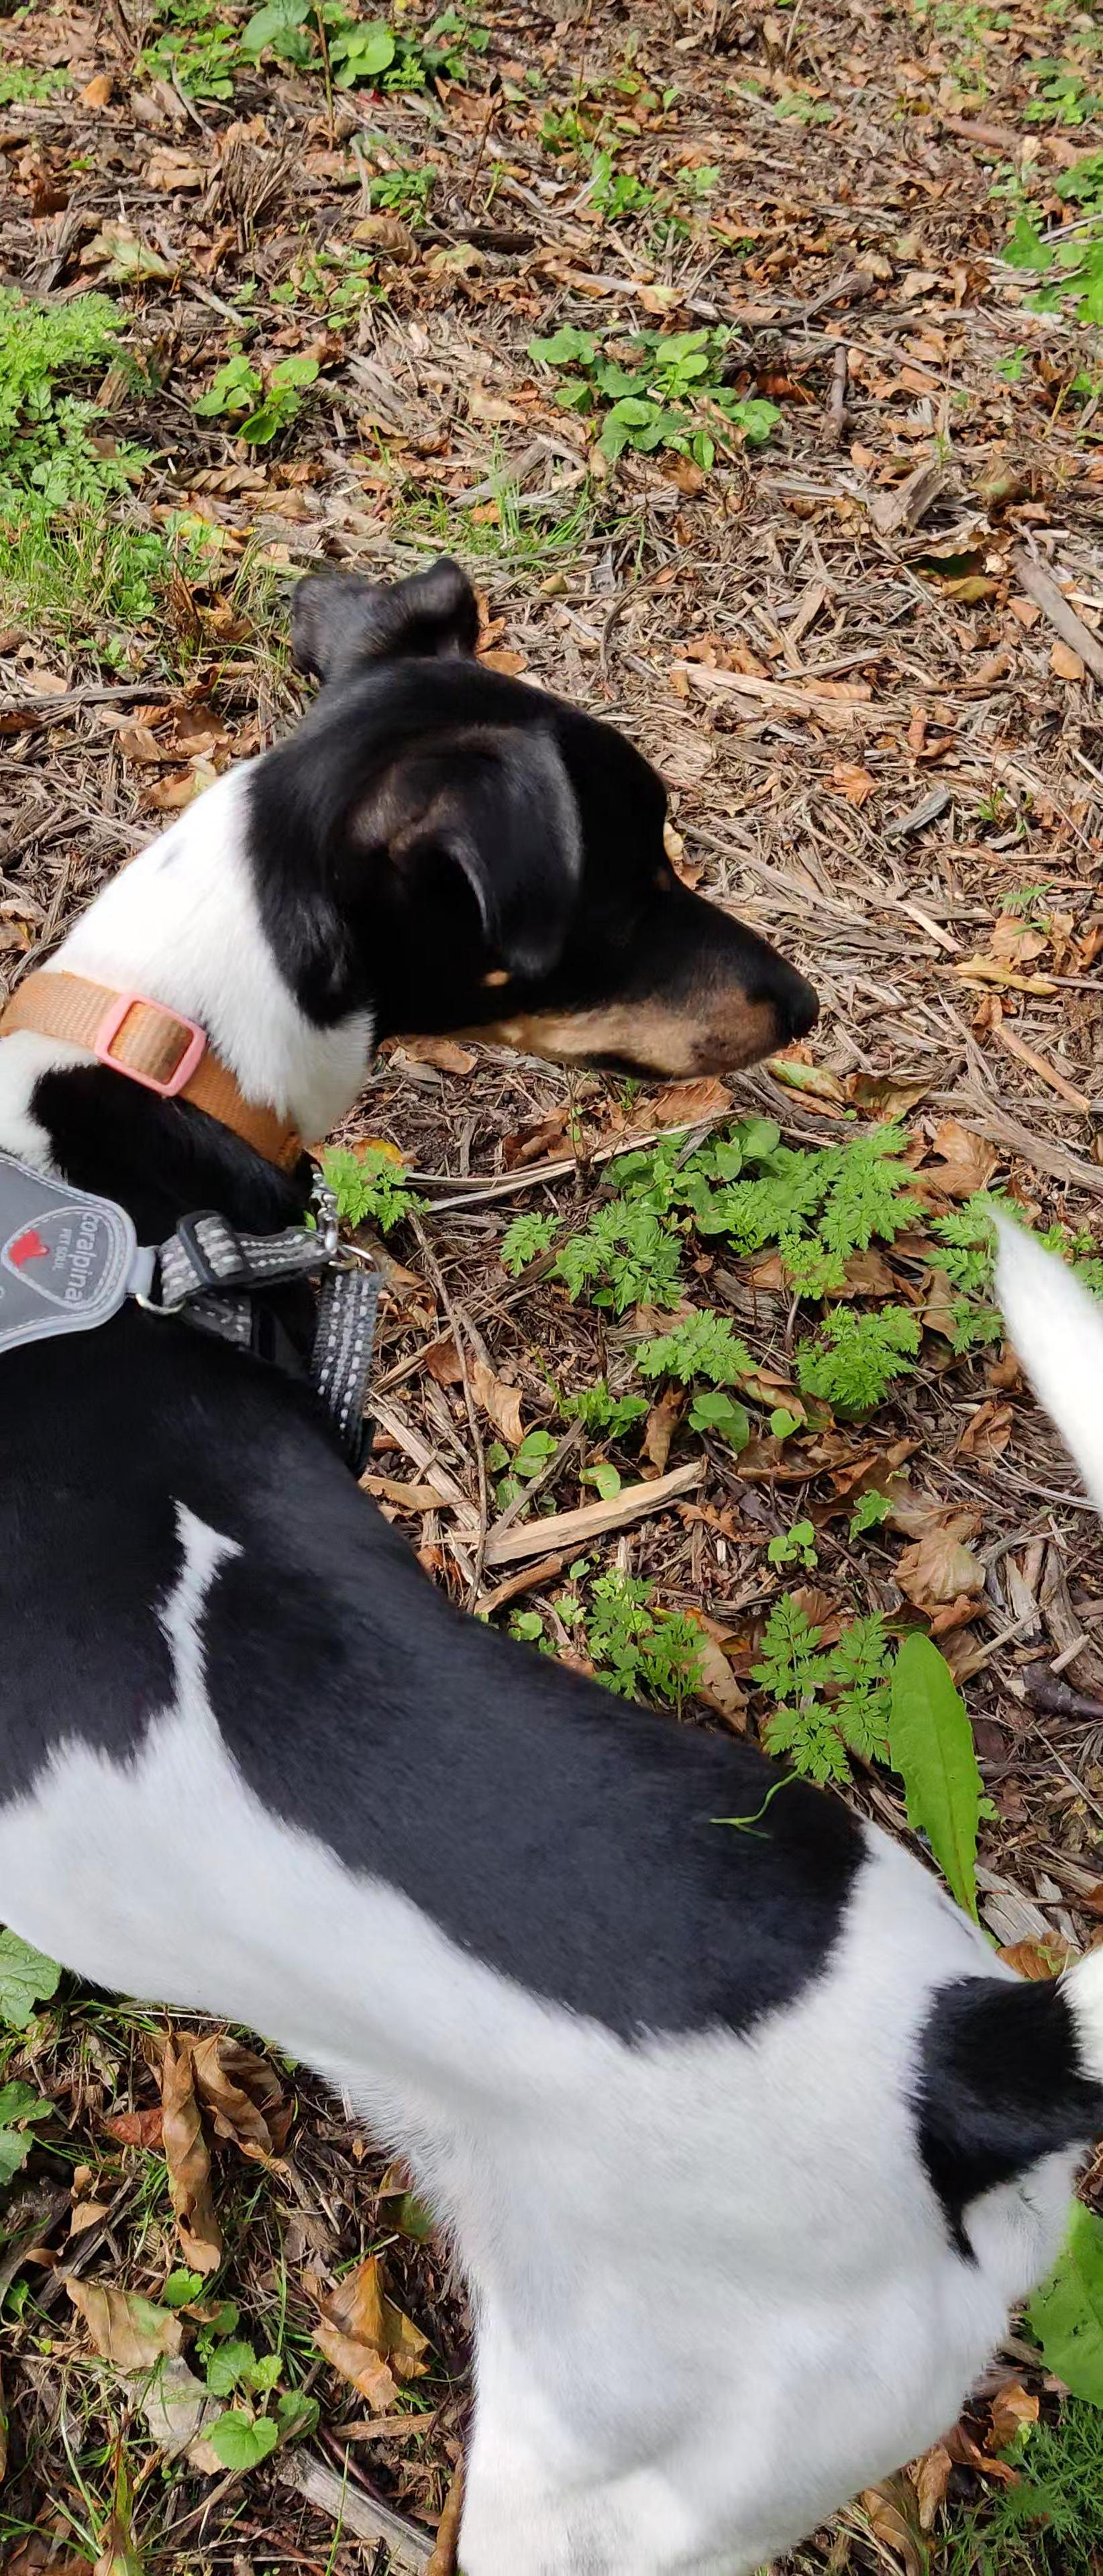Dog: (0, 555, 1103, 2576)
